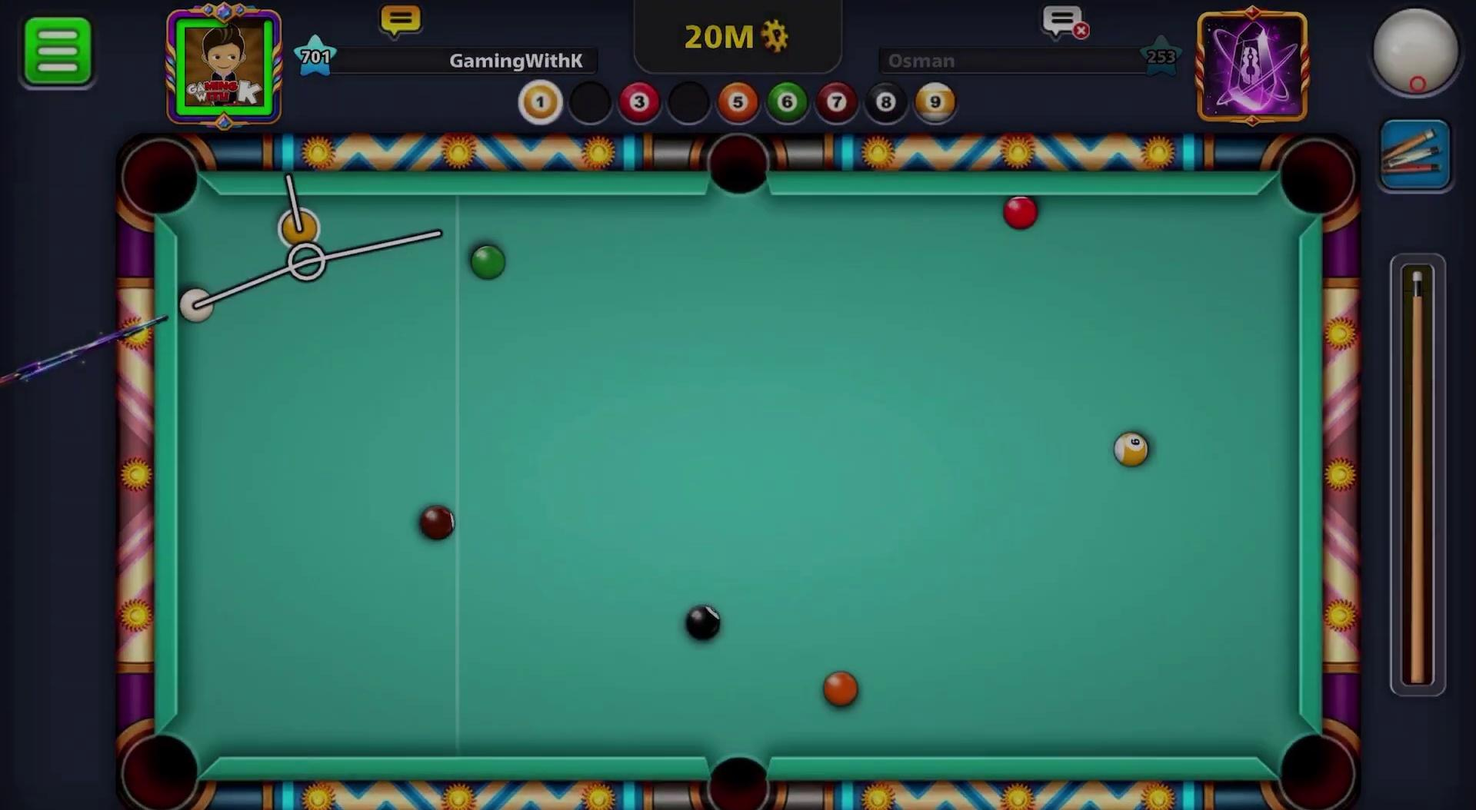Ball: (675, 601, 730, 649), (410, 500, 462, 546), (1112, 423, 1154, 476), (464, 241, 510, 287), (818, 668, 863, 711), (998, 192, 1044, 233), (275, 207, 322, 247)
Force: (1385, 249, 1455, 699)
Guideline: (180, 174, 442, 322)
Hole: (105, 122, 219, 234), (1263, 715, 1365, 809), (1270, 131, 1364, 230), (114, 725, 206, 809), (691, 124, 782, 207), (685, 739, 785, 809)
Play_Area: (176, 194, 1295, 759)
Spin: (1346, 0, 1475, 117)
White: (174, 284, 214, 328)
